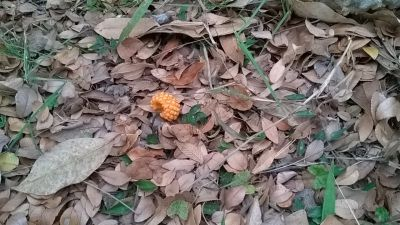eggs: (150, 90, 182, 122)
